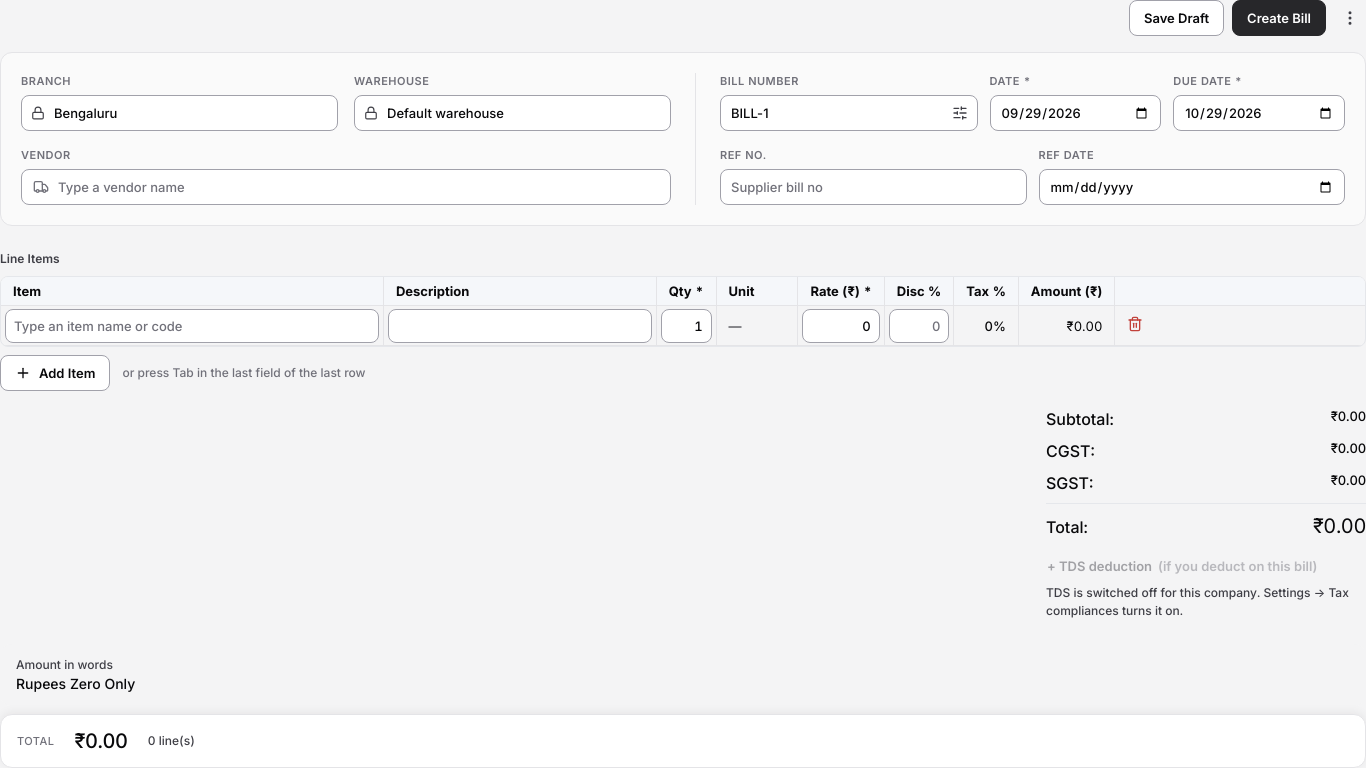
Test: the bill number carries its series › renumbers the bill being typed once the series is saved
Click the button named "Bill numbering settings" at (960, 113), box [946,99,974,127]
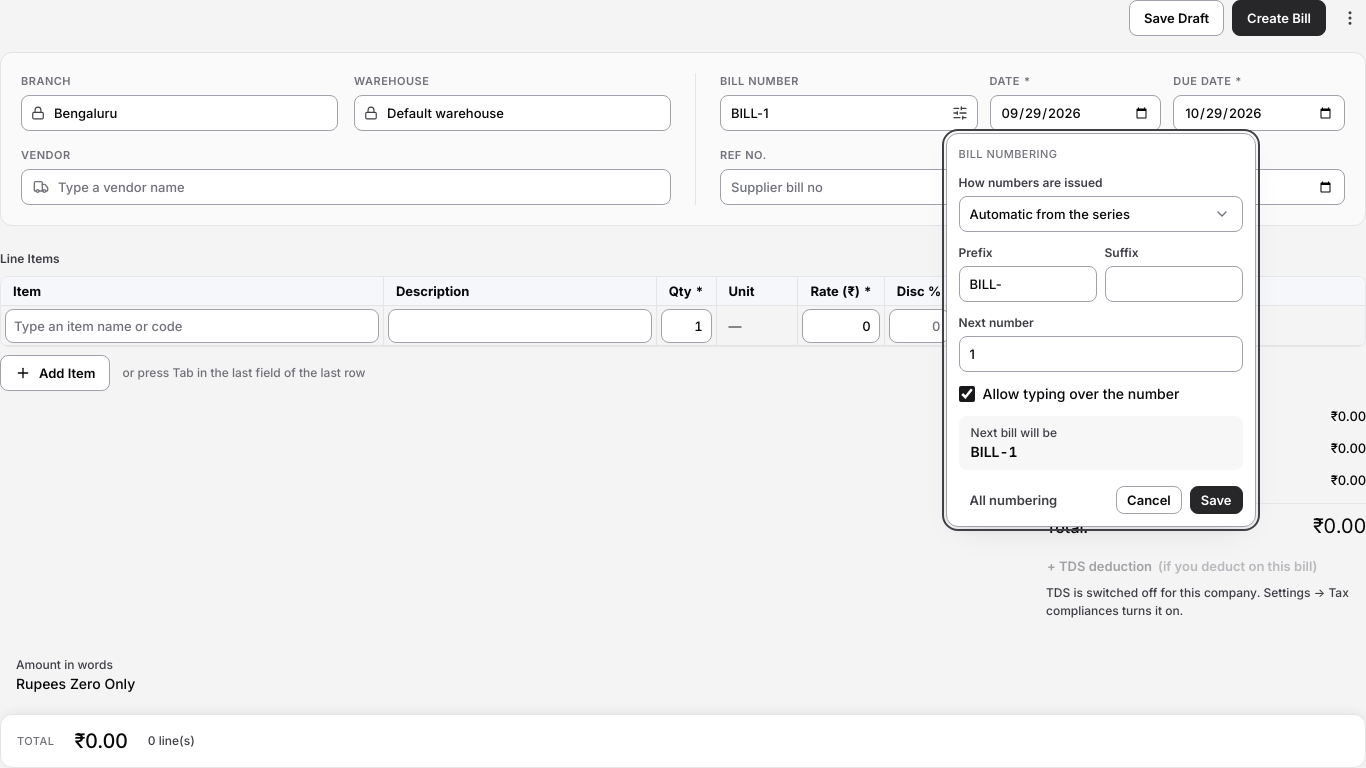
Replace the text in the field labelled "Prefix" with "PB-" at (1028, 284), box [959,266,1097,302]
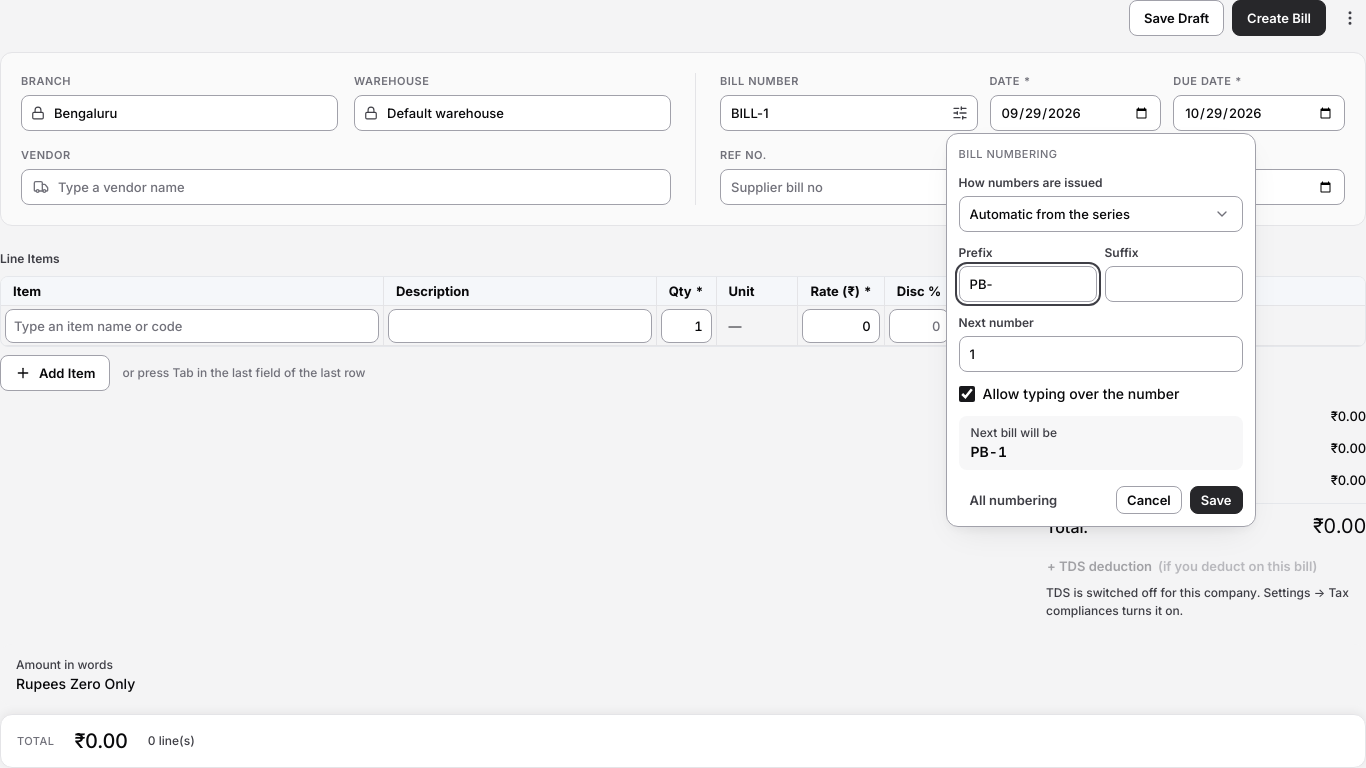
Replace the text in the number field labelled "Next number" with "7" at (1101, 354), box [959,336,1243,372]
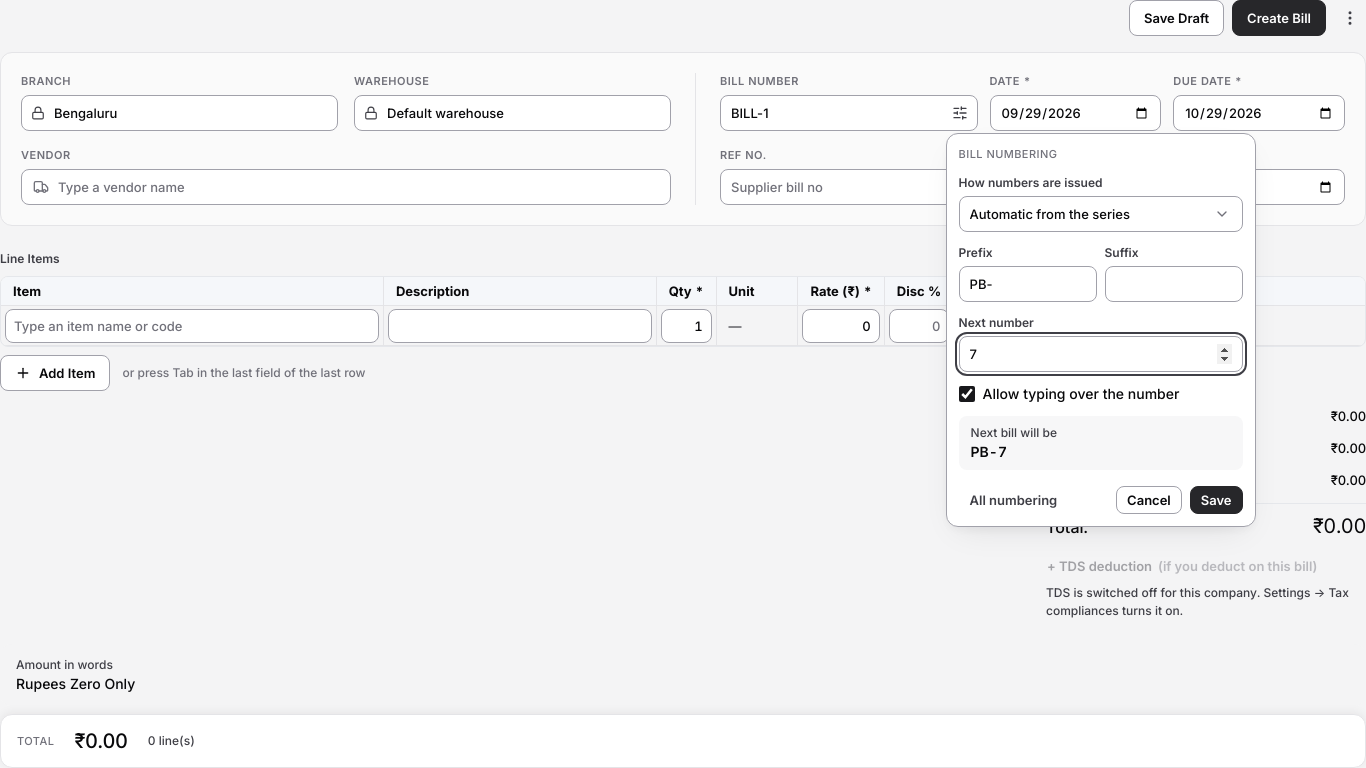
Click the button "Save" at (1216, 500), box [1190,486,1243,514]
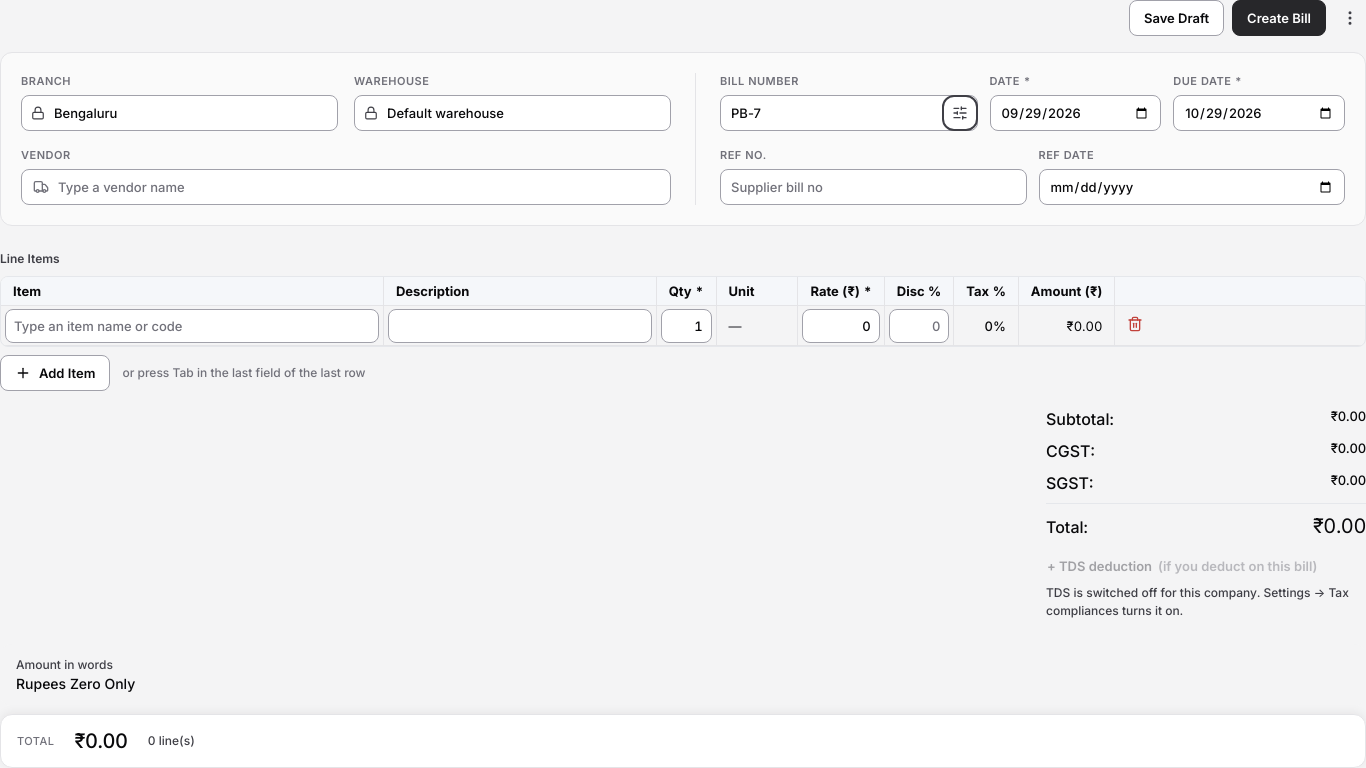
Now the field labelled "Bill Number" holds "PB-7", box [720,95,978,131]
